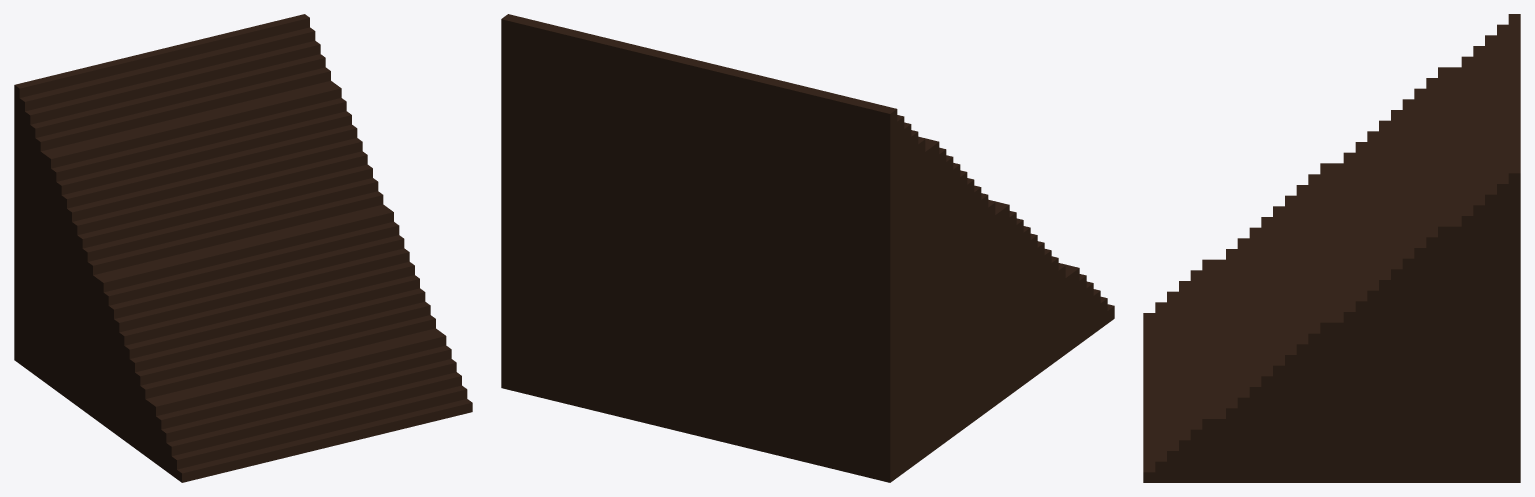
The model's file is Roof Forward.obj.
The picture shows the model from 3 angles, left to right: view 1: azimuth 30°, elevation 25°; view 2: azimuth 150°, elevation 25°; view 3: azimuth 270°, elevation 25°; orthographic projection. The views are drawn at different scales.
Size of the model in its own units: 3.2 by 2.9 by 3.2.
1 material, 1 textured.
